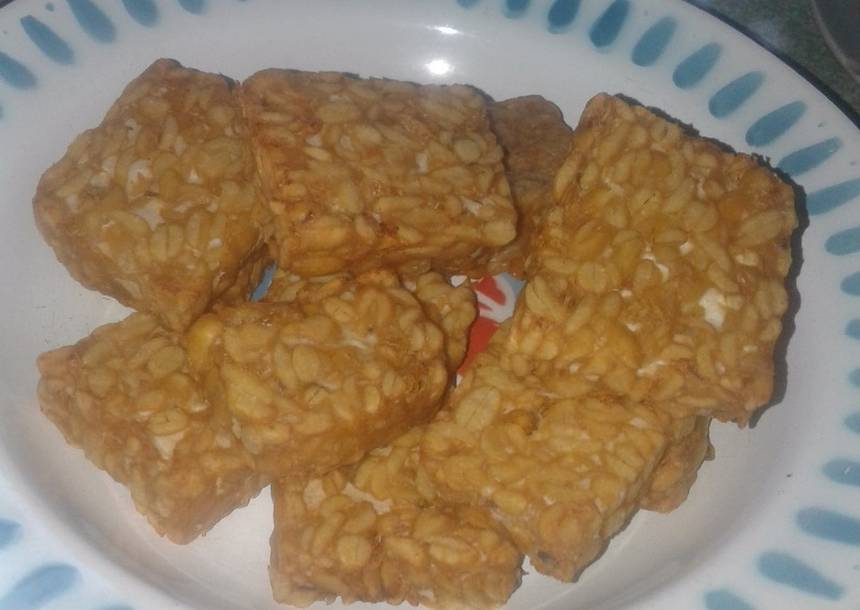Tempe: (459, 295, 712, 564), (23, 313, 280, 516), (274, 57, 505, 246), (591, 127, 767, 346), (232, 273, 454, 437), (252, 485, 516, 610), (100, 56, 256, 258)
